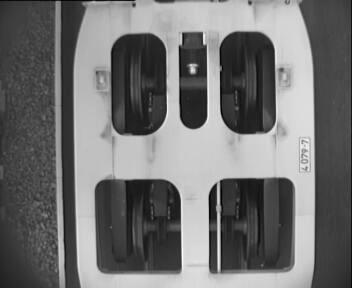wagon_scan: (100, 25, 289, 139)
